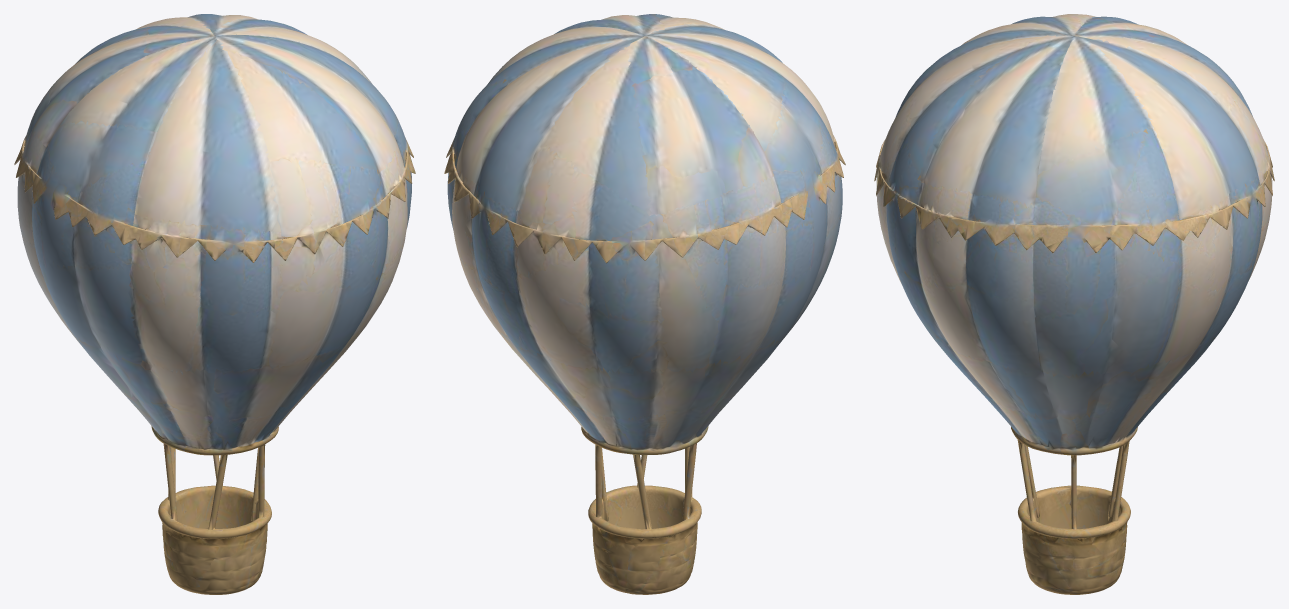
The picture shows the model from 3 angles, left to right: view 1: azimuth 30°, elevation 25°; view 2: azimuth 150°, elevation 25°; view 3: azimuth 270°, elevation 25°; orthographic projection.
Size of the model in its own units: 1.26 by 1.9 by 1.27.
Materials: 1 (1 with a texture image).
